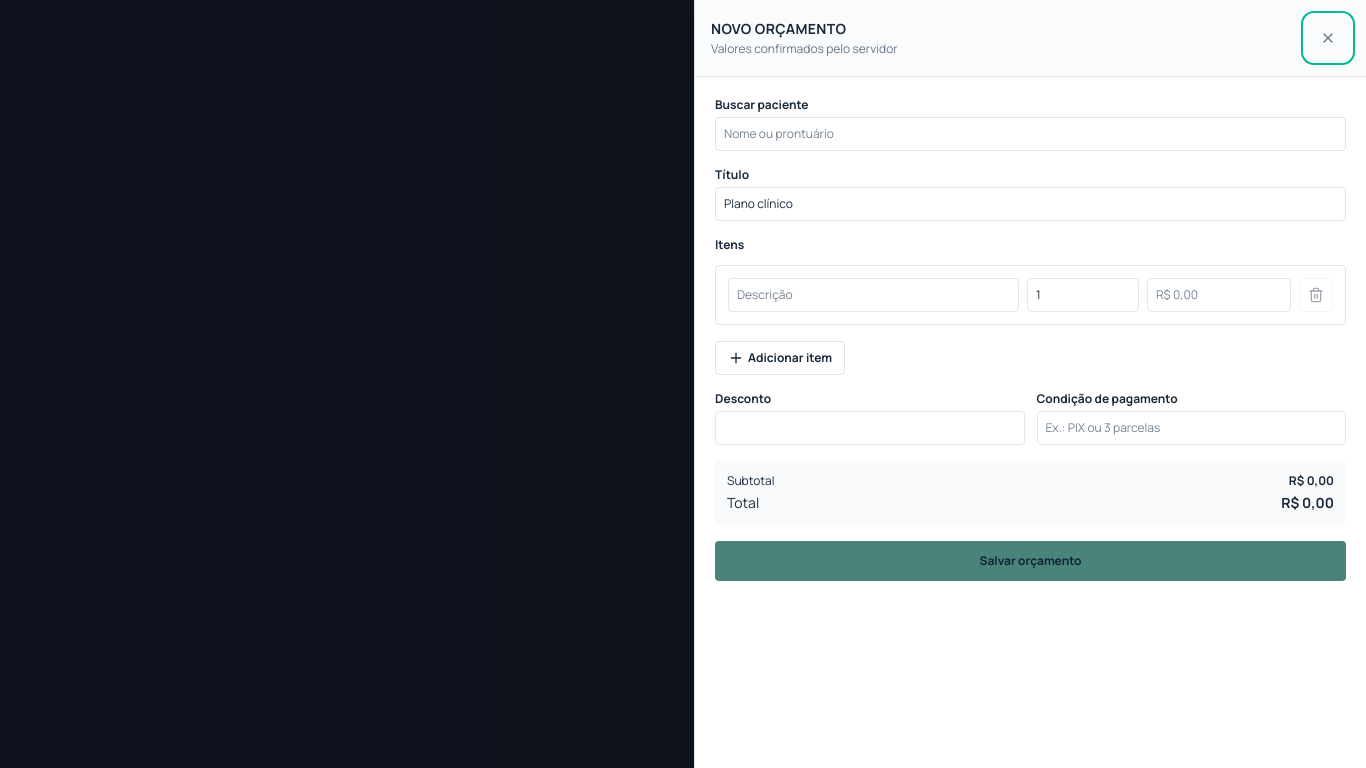
it: editor de orçamento › preserva o rascunho em falha recuperável e impede envio duplicado
Type "Ana" into the field labelled "Buscar paciente" at (1030, 134), box [715,117,1346,151]
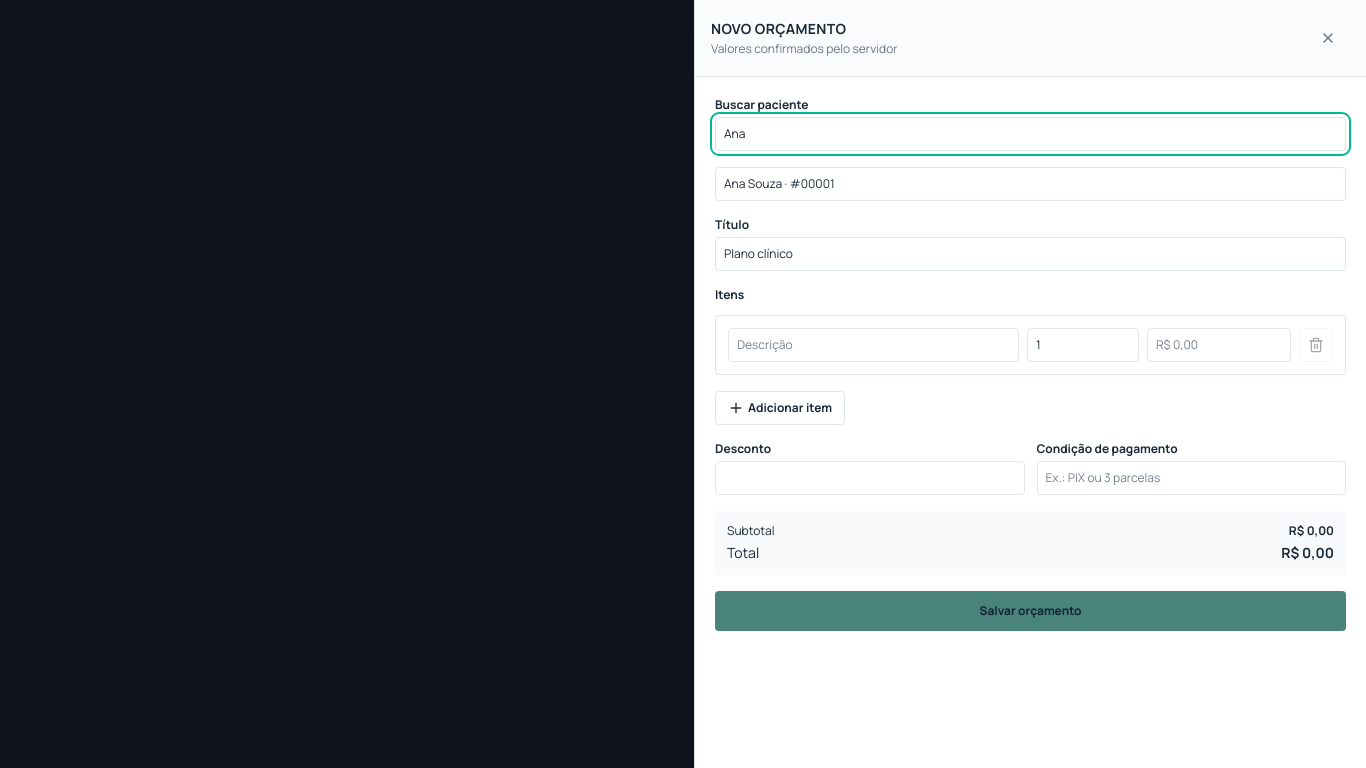
Click the button "Ana Souza · #00001" at (753, 184), box [716,168,1345,200]
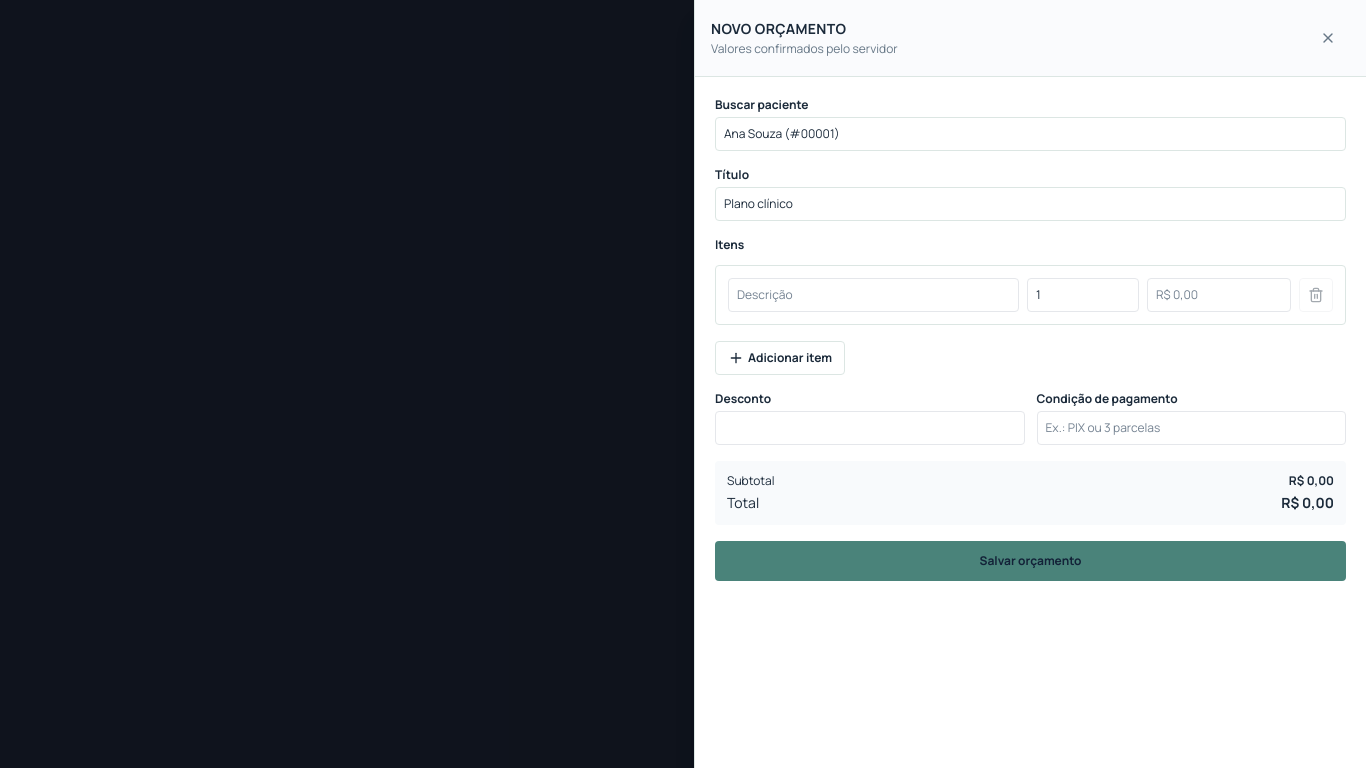
Type "Avaliação clínica" into the field named "Descrição do item 1" at (874, 295), box [728,278,1019,312]
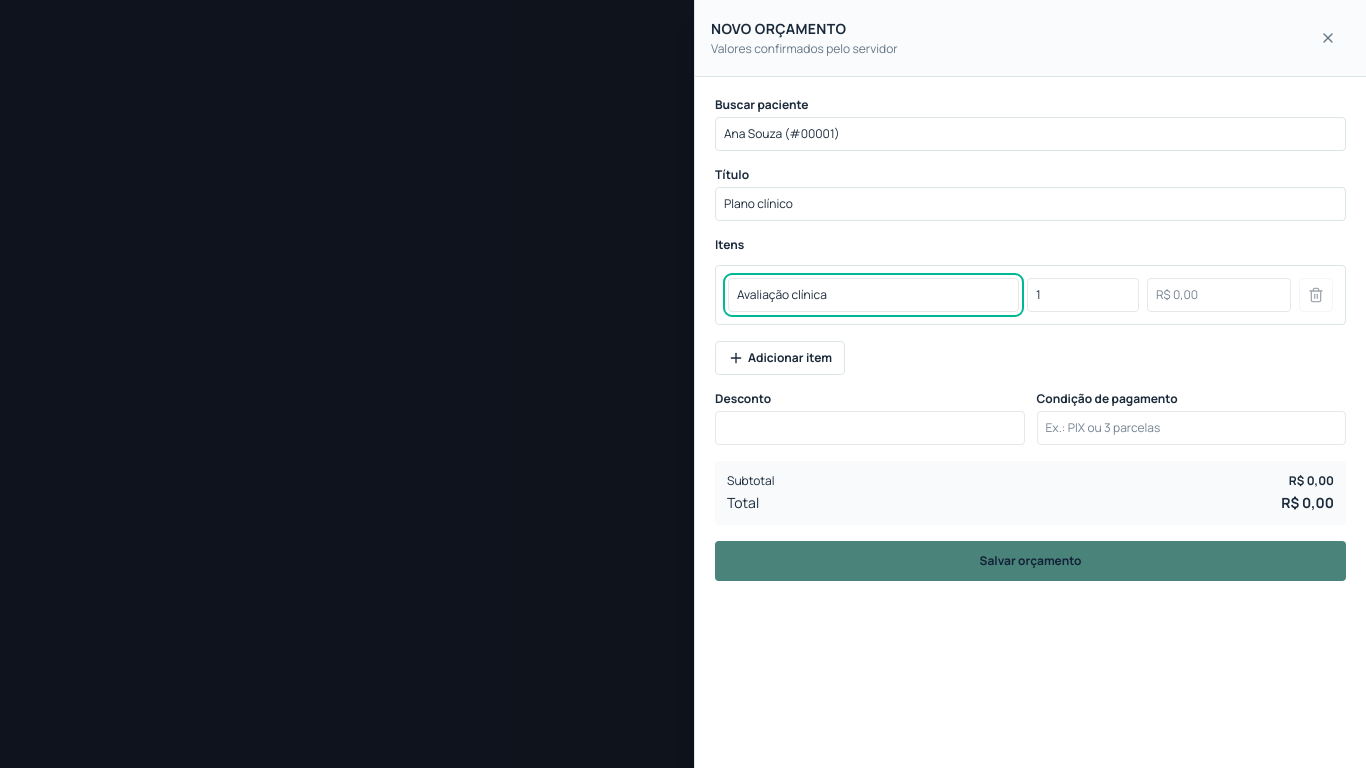
Type "100" into the number field named "Valor unitário do item 1" at (1219, 295), box [1147,278,1291,312]
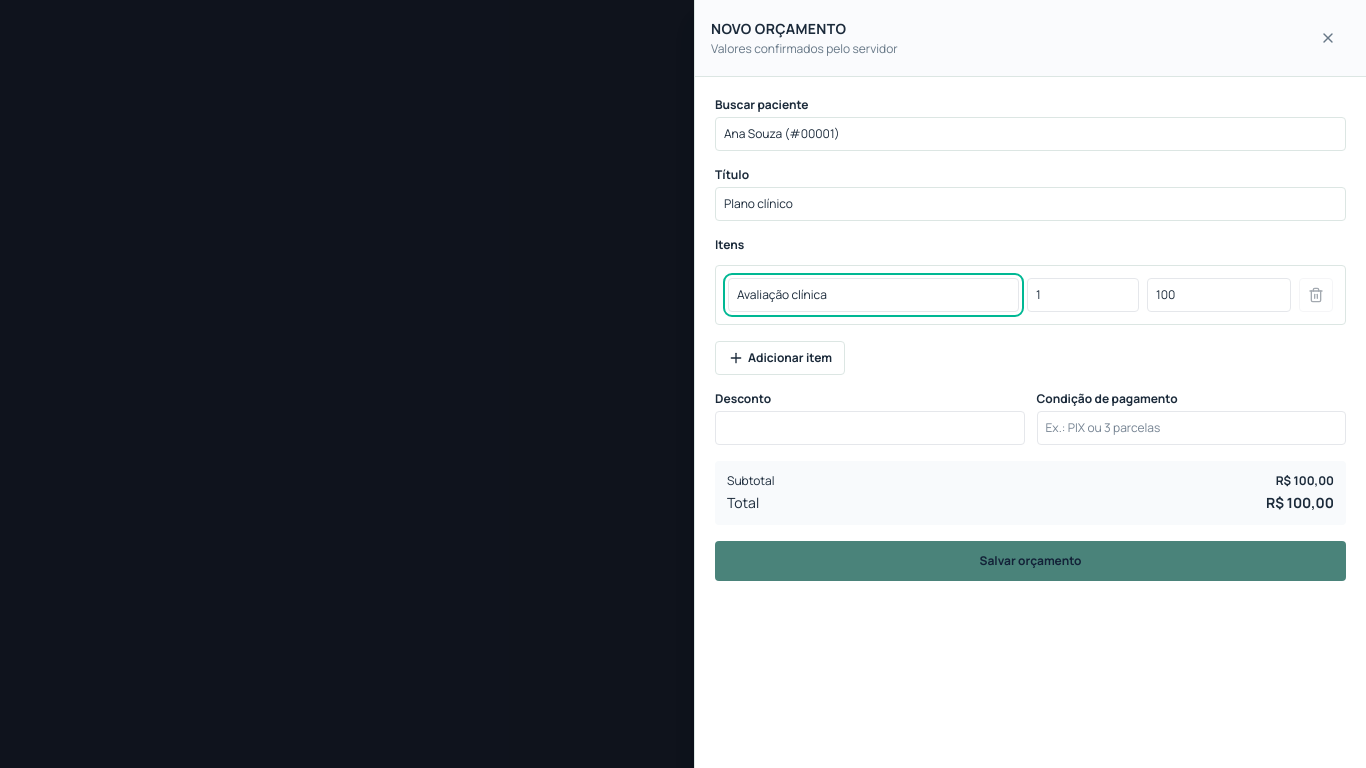
Click the button "Salvar orçamento" at (1030, 561), box [715,541,1346,581]
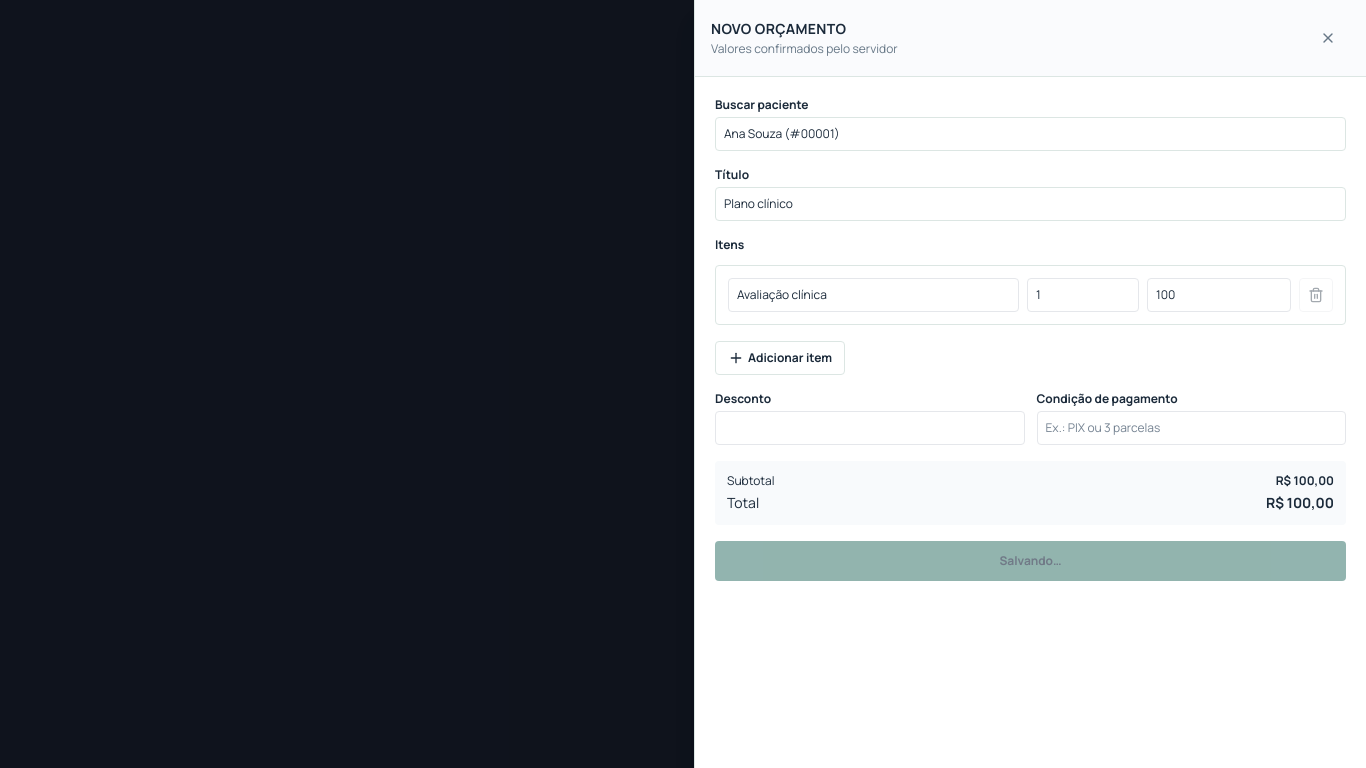
Click the button named "Salvar orçamento" at (1030, 561), box [715,541,1346,581]
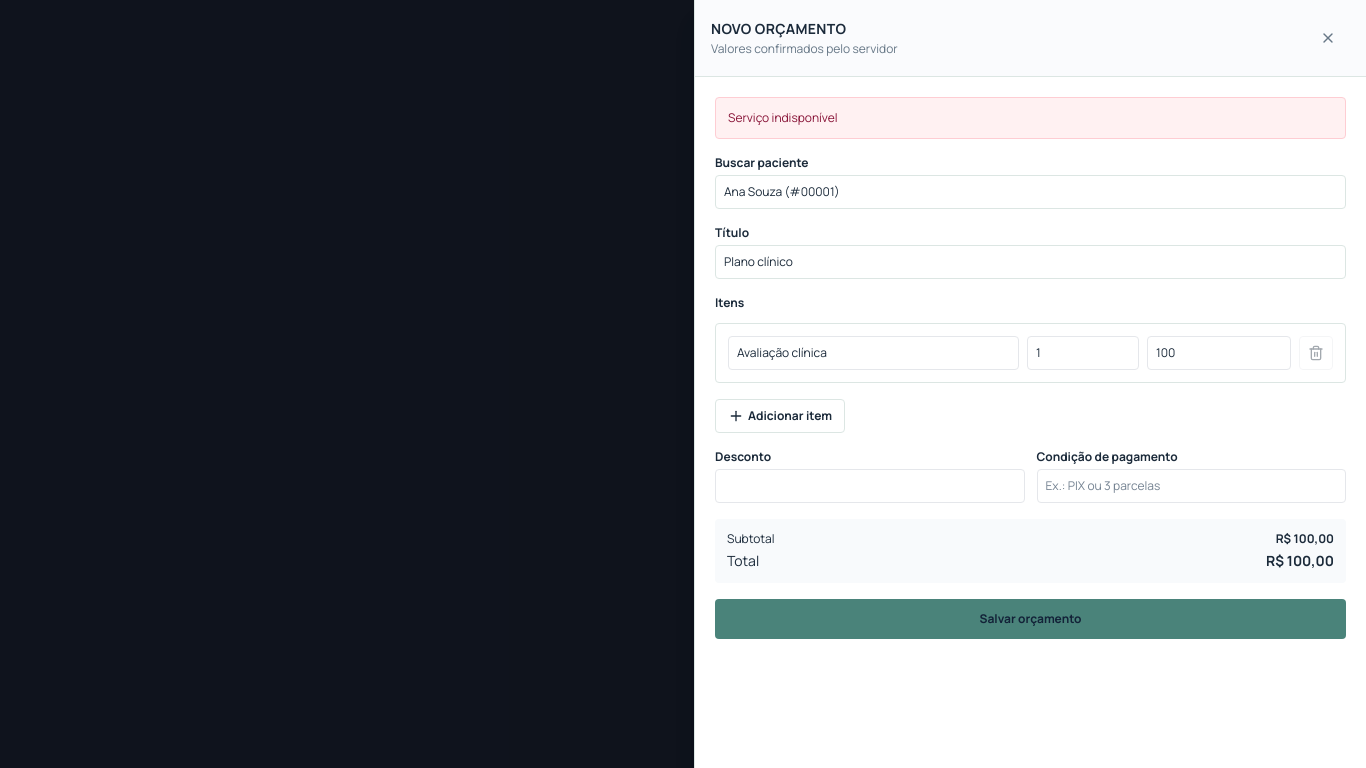
Now the message reads "Serviço indisponível", box [728,109,838,126]
